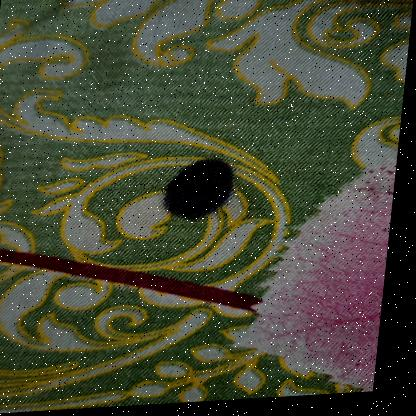spot: (162, 155, 259, 232)
